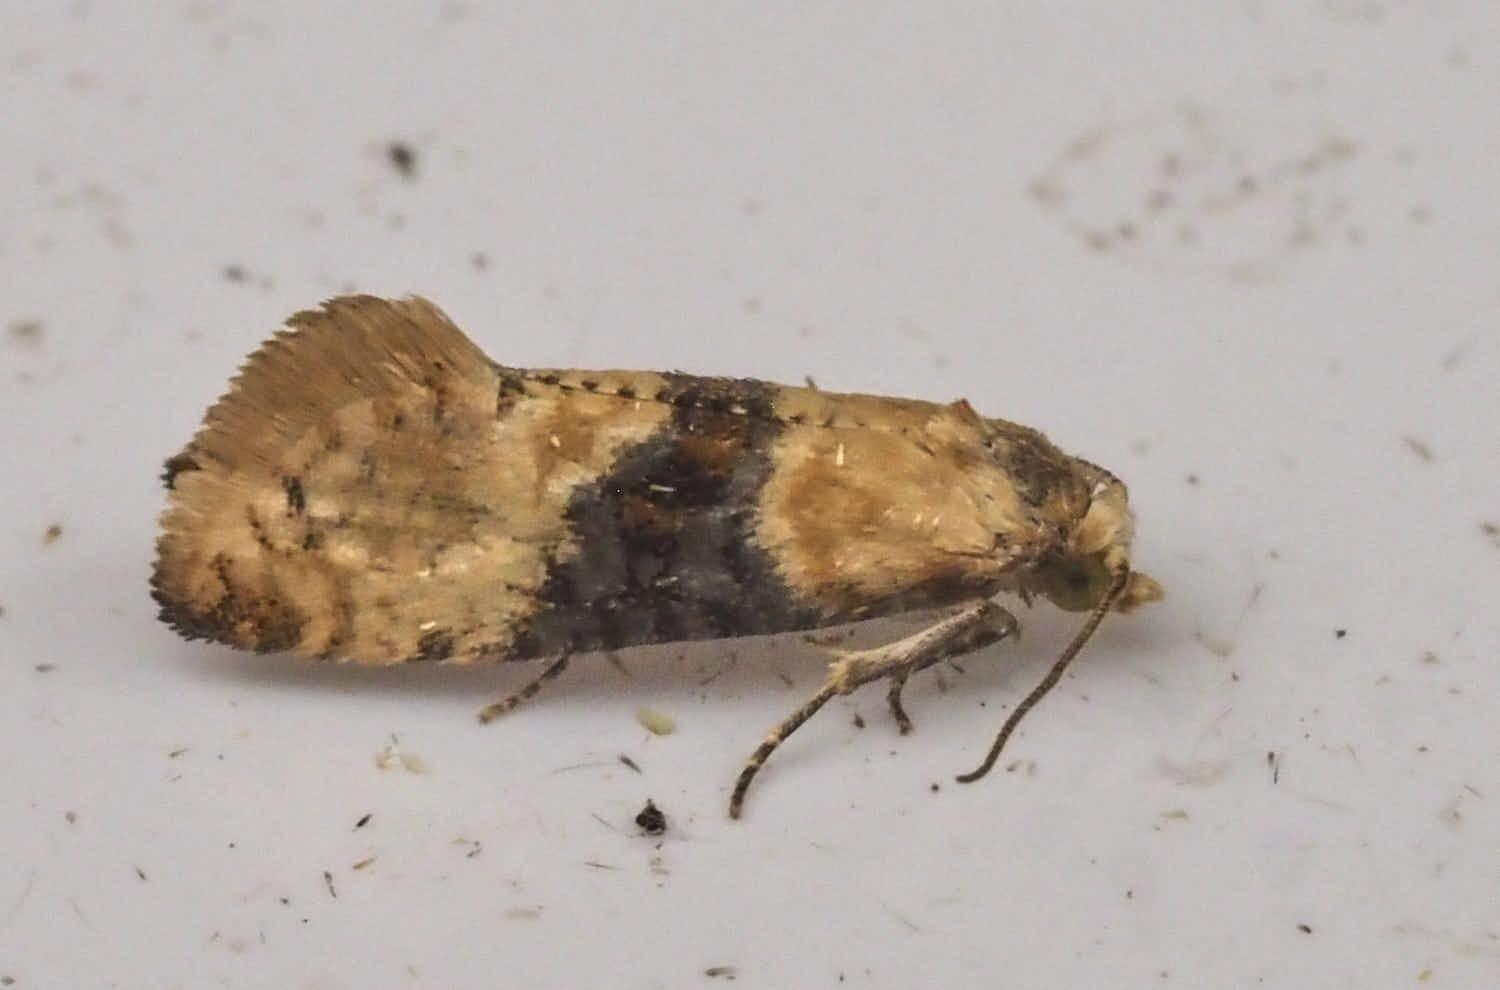Eupoecilia Ambiguella: (145, 287, 1166, 823)
